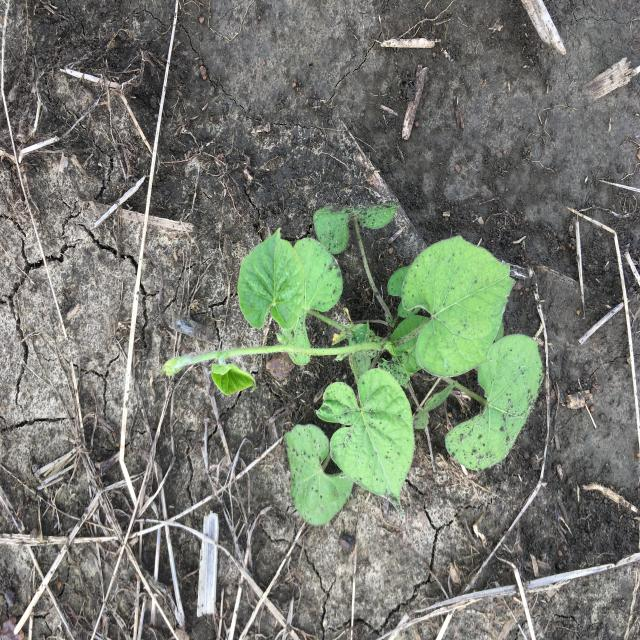MorningGlory: (162, 192, 548, 528)
